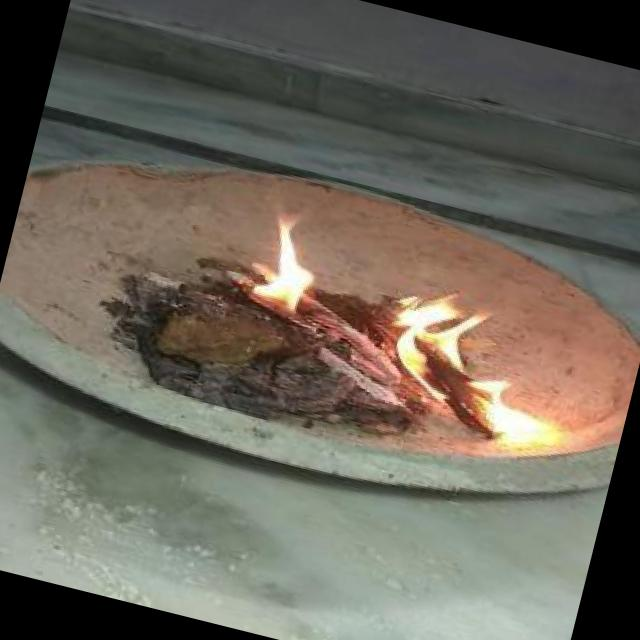Fire: (366, 276, 593, 456), (231, 190, 345, 328)
